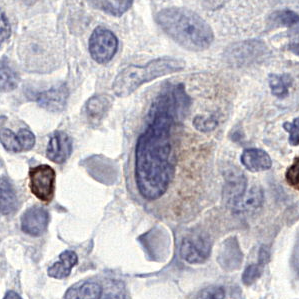Lymphocyte: (26, 164, 60, 203)
